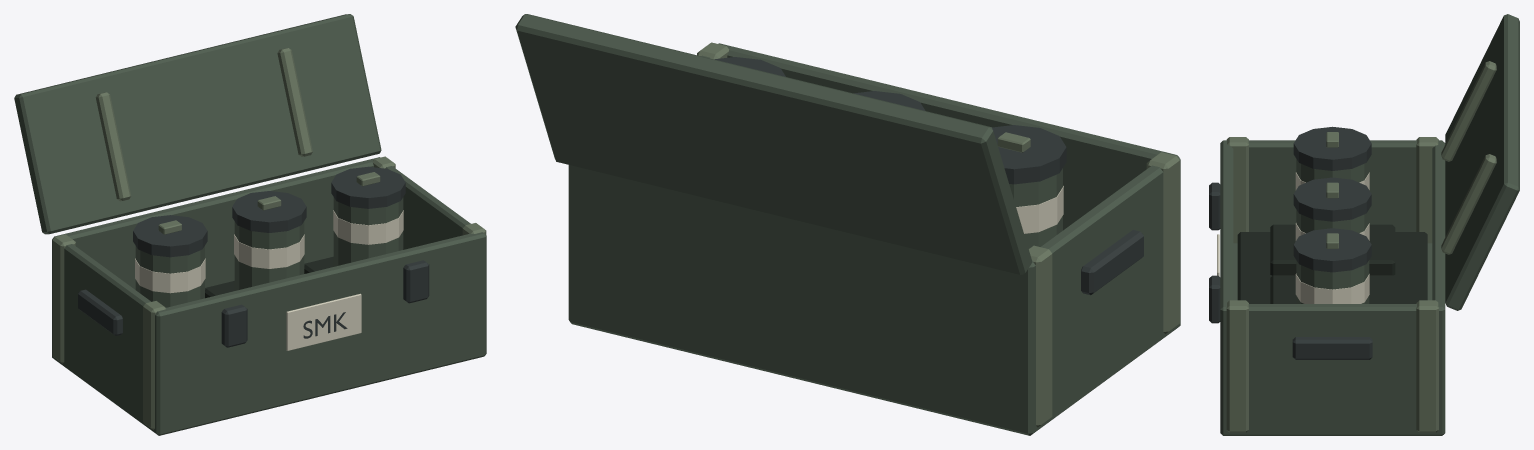
Rendered from smoke_supply_01.glb.
The picture shows the model from 3 angles, left to right: view 1: azimuth 30°, elevation 25°; view 2: azimuth 150°, elevation 25°; view 3: azimuth 270°, elevation 25°; orthographic projection. The views are drawn at different scales.
Visible parts, largest first — view 1: Lid, Front, Back, Base, Side, Side.001, WhiteLabel, SmokeTube.001, SmokeTube.002, Cap, Cap.001, Cap.002 (+11 smaller); view 2: Lid, Back, Side, Base, Front, CornerGuard, CornerGuard.001, Cap, Handle, SmokeTube, WhiteBand; view 3: Side.001, Lid, Side, Base, FoamInsert, CornerGuard.002, CornerGuard.003, Front, Back, Cap.001, Cap.002, Cap (+13 smaller).
Part boxes in pixels (x1,y1,x2,y2): Lid: [14, 14, 381, 234]; Front: [155, 232, 486, 419]; Back: [52, 157, 380, 342]; Base: [52, 329, 486, 435]; Side: [55, 235, 165, 418]; Side.001: [374, 158, 486, 249]; WhiteLabel: [286, 293, 361, 350]; SmokeTube.001: [234, 221, 304, 290]; SmokeTube.002: [333, 197, 403, 266]; Cap: [133, 215, 207, 257]; Cap.001: [232, 191, 306, 232]; Cap.002: [331, 166, 405, 208]; Lid: [515, 14, 1032, 274]; Back: [568, 165, 1035, 412]; Side: [1020, 155, 1178, 411]; Base: [568, 291, 1180, 435]; Front: [718, 43, 1180, 304]; CornerGuard: [1146, 152, 1179, 333]; CornerGuard.001: [1029, 245, 1052, 427]; Cap: [992, 125, 1066, 184]; Handle: [1081, 230, 1143, 295]; SmokeTube: [1009, 168, 1062, 248]; WhiteBand: [1016, 186, 1063, 233]; Side.001: [1220, 304, 1445, 416]; Lid: [1445, 14, 1519, 310]; Side: [1220, 140, 1444, 231]; Base: [1220, 243, 1445, 435]; FoamInsert: [1237, 232, 1427, 303]; CornerGuard.002: [1226, 300, 1248, 432]; CornerGuard.003: [1416, 300, 1438, 432]; Front: [1220, 140, 1233, 418]; Back: [1432, 140, 1445, 418]; Cap.001: [1293, 177, 1371, 221]; Cap.002: [1293, 228, 1371, 272]; Cap: [1293, 126, 1371, 170].
Bounding box in the file's own units: 0.8416 × 0.5617 × 0.6221.
